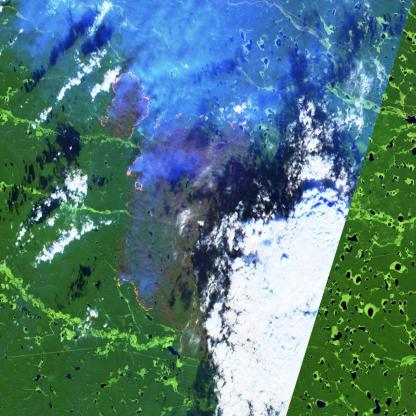fire: (94, 66, 153, 144), (108, 271, 157, 318), (124, 154, 147, 199), (219, 107, 253, 133)
